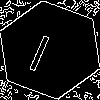I: (25, 25, 57, 73)
